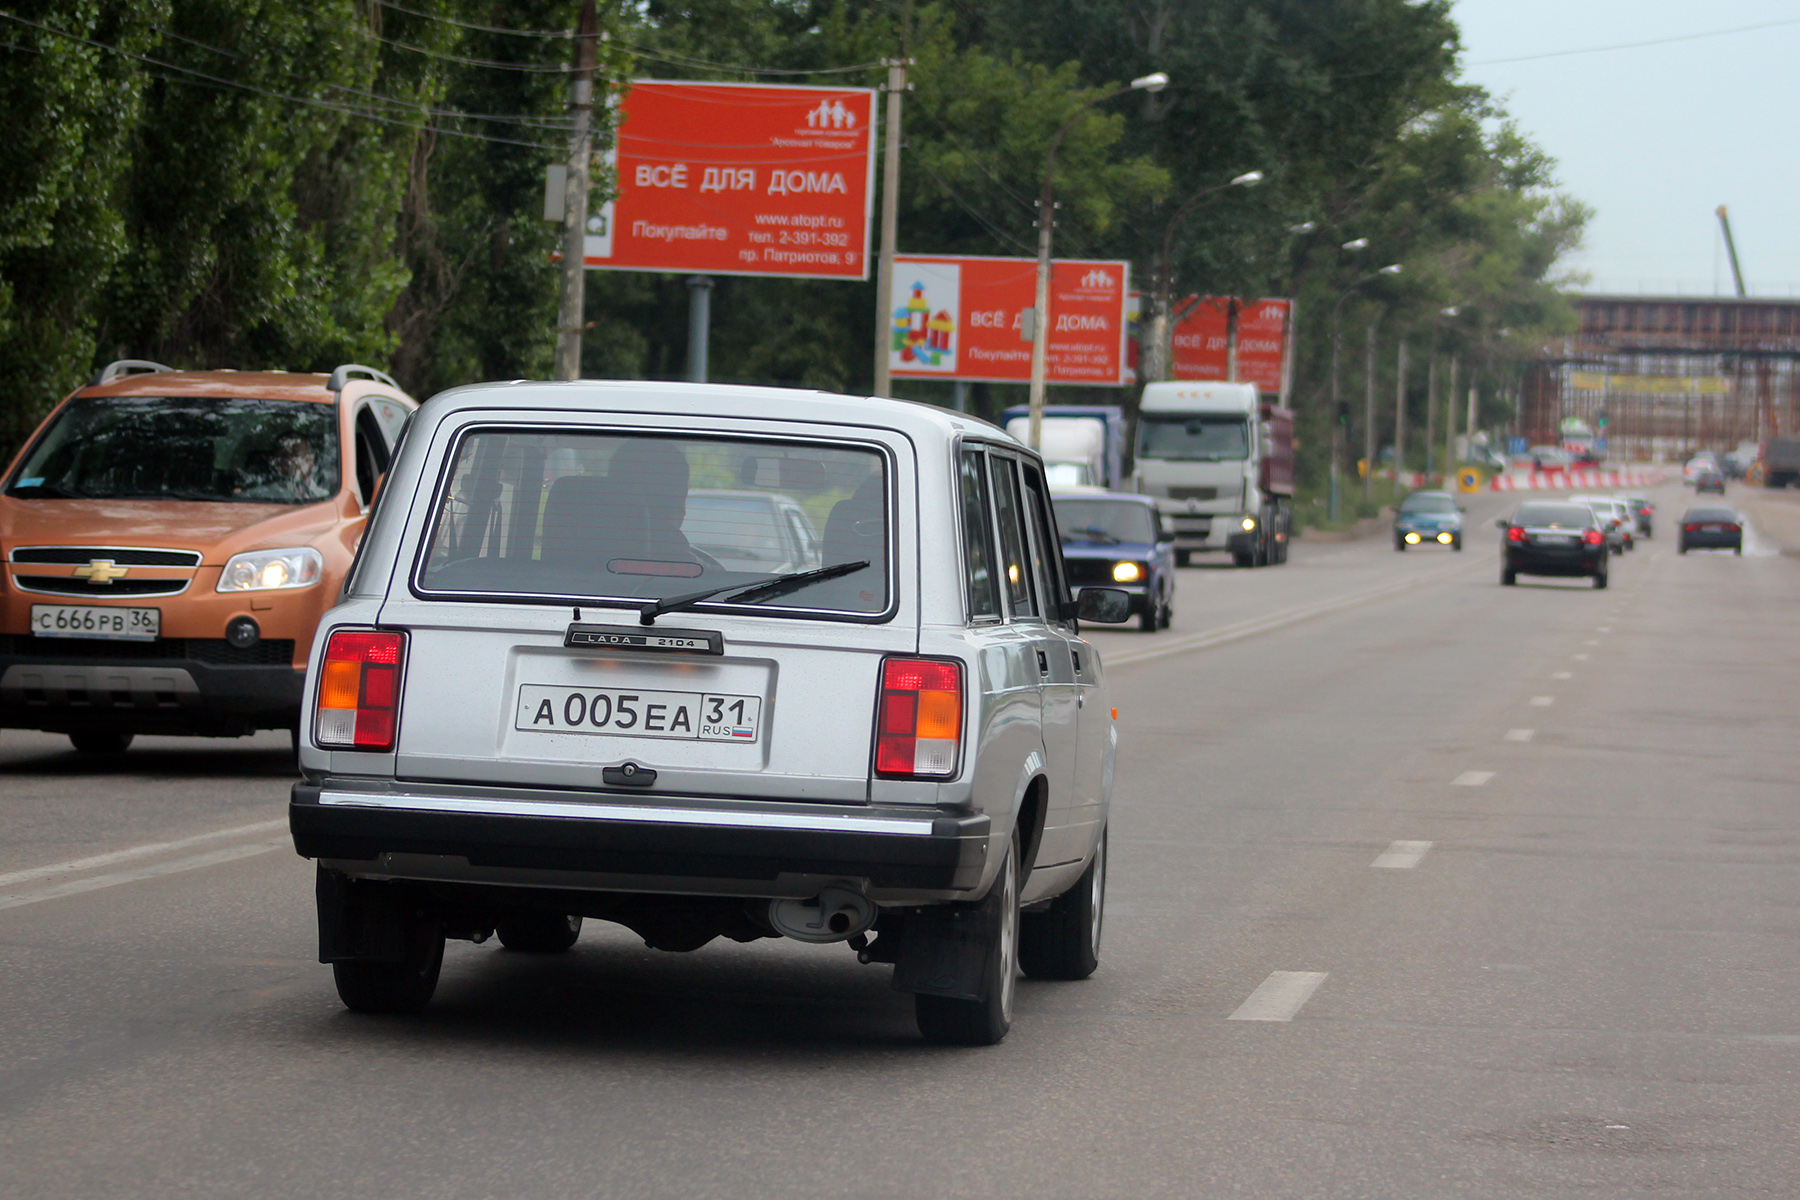number_plate: (496, 686, 764, 738), (31, 597, 162, 643)
